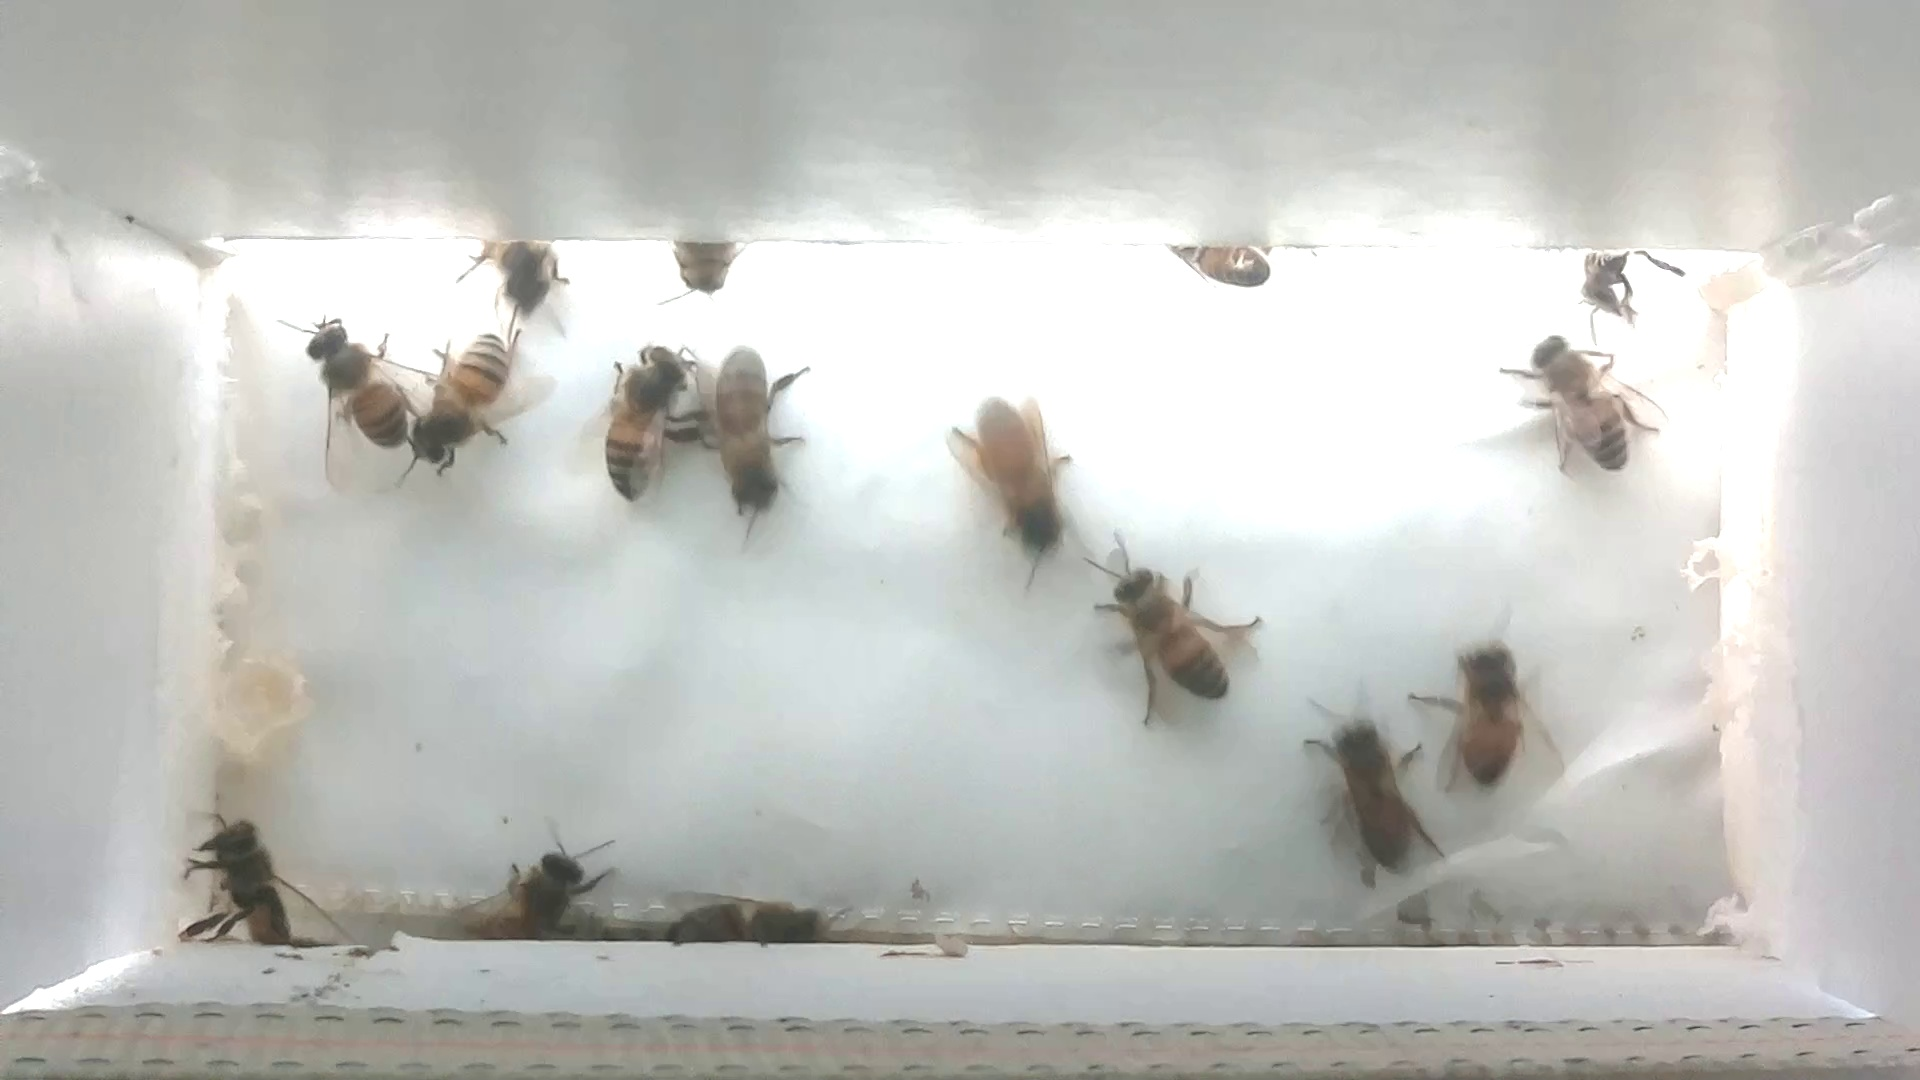bee: (1069, 524, 1280, 731), (1484, 315, 1673, 487), (1291, 690, 1453, 884), (683, 336, 828, 539), (936, 382, 1087, 576), (266, 305, 429, 483), (1414, 618, 1545, 796), (448, 824, 626, 956), (400, 318, 541, 483), (171, 804, 315, 957), (583, 330, 698, 505), (655, 876, 844, 960), (468, 225, 582, 330), (1563, 243, 1679, 334), (1160, 241, 1295, 309), (659, 233, 756, 316)
